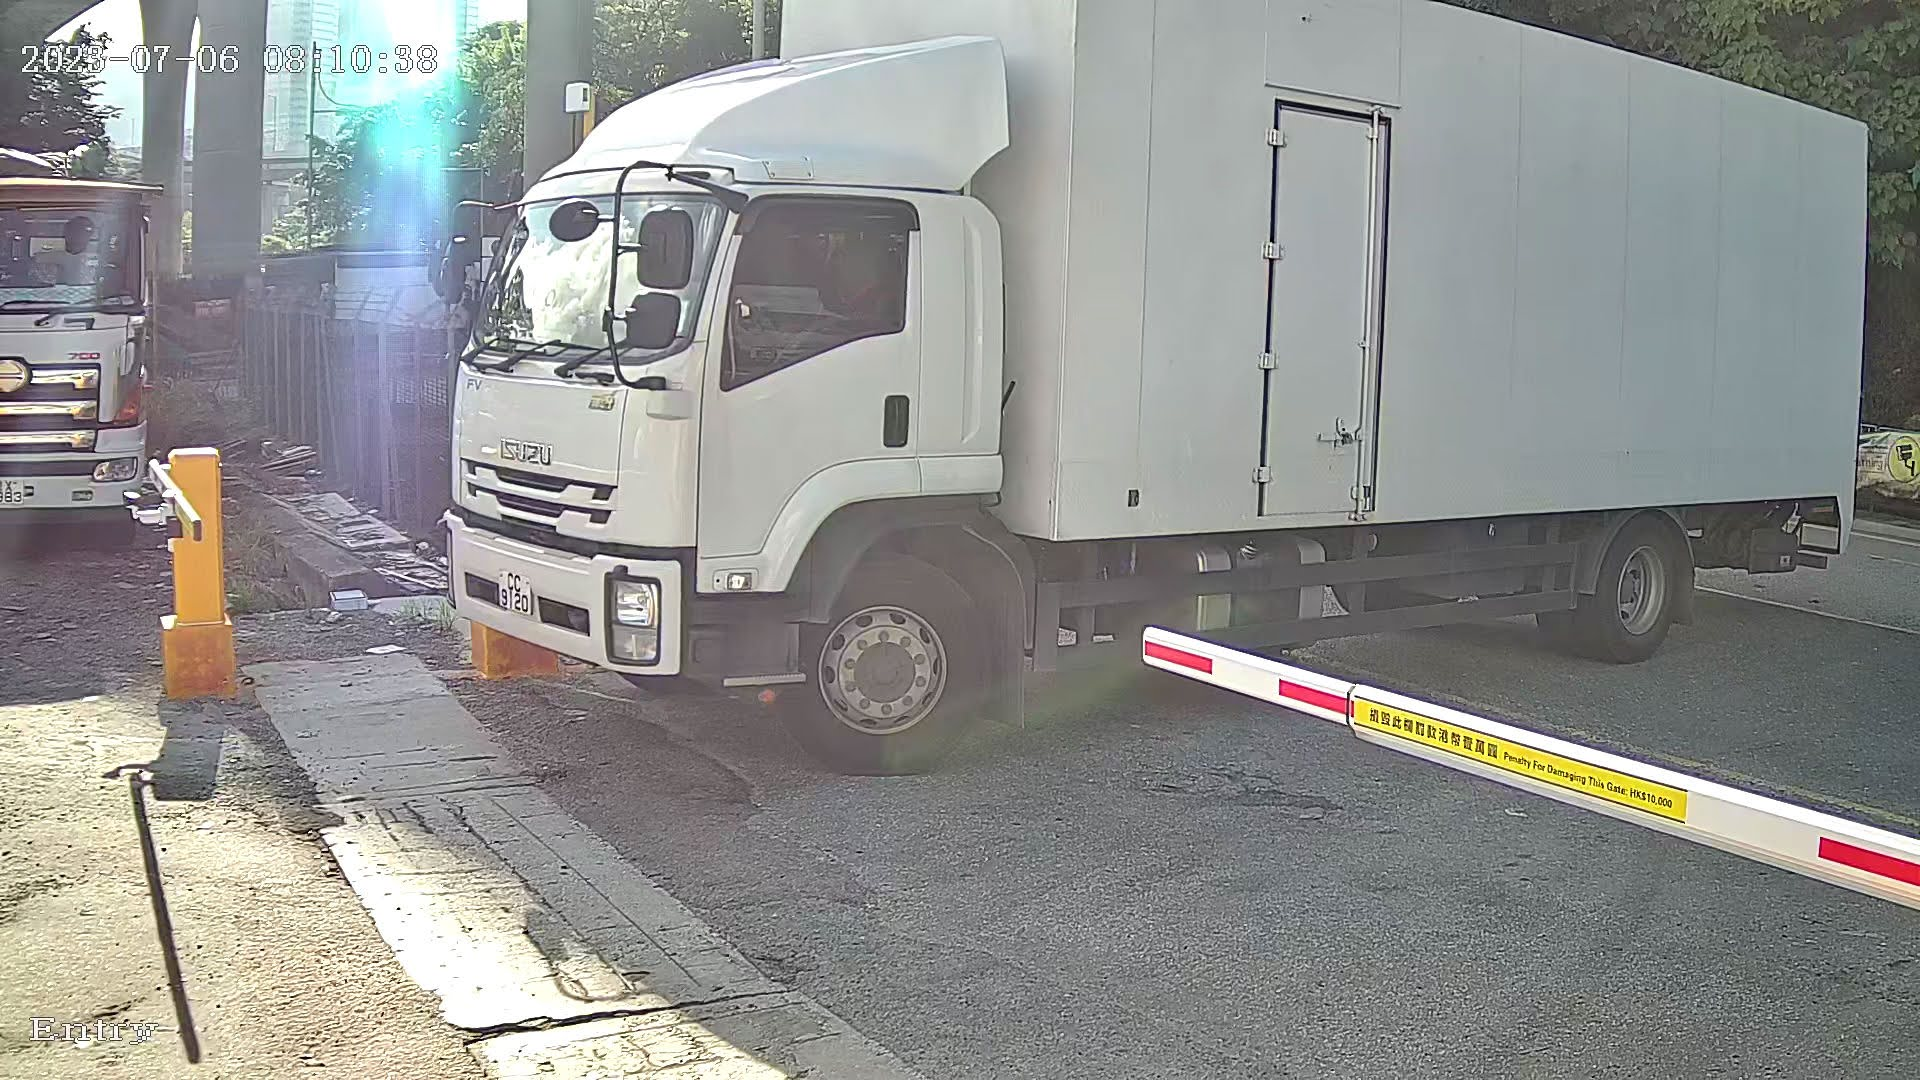truck_large: (385, 1, 1917, 843)
